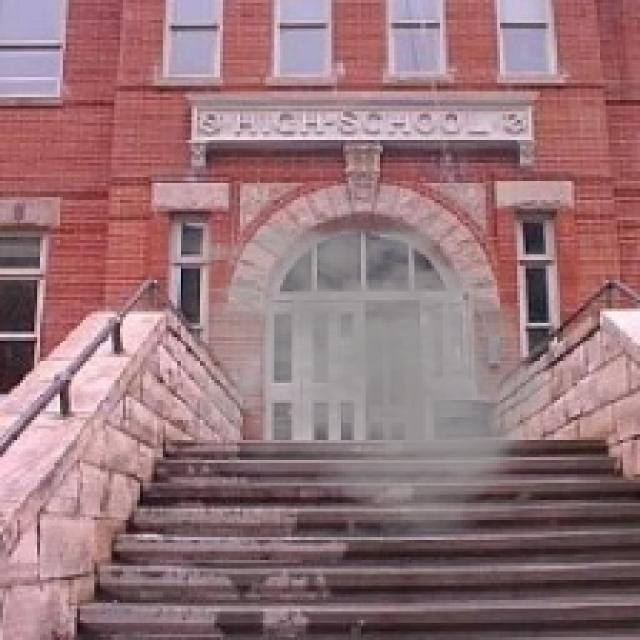Smoke: (155, 202, 574, 548)
